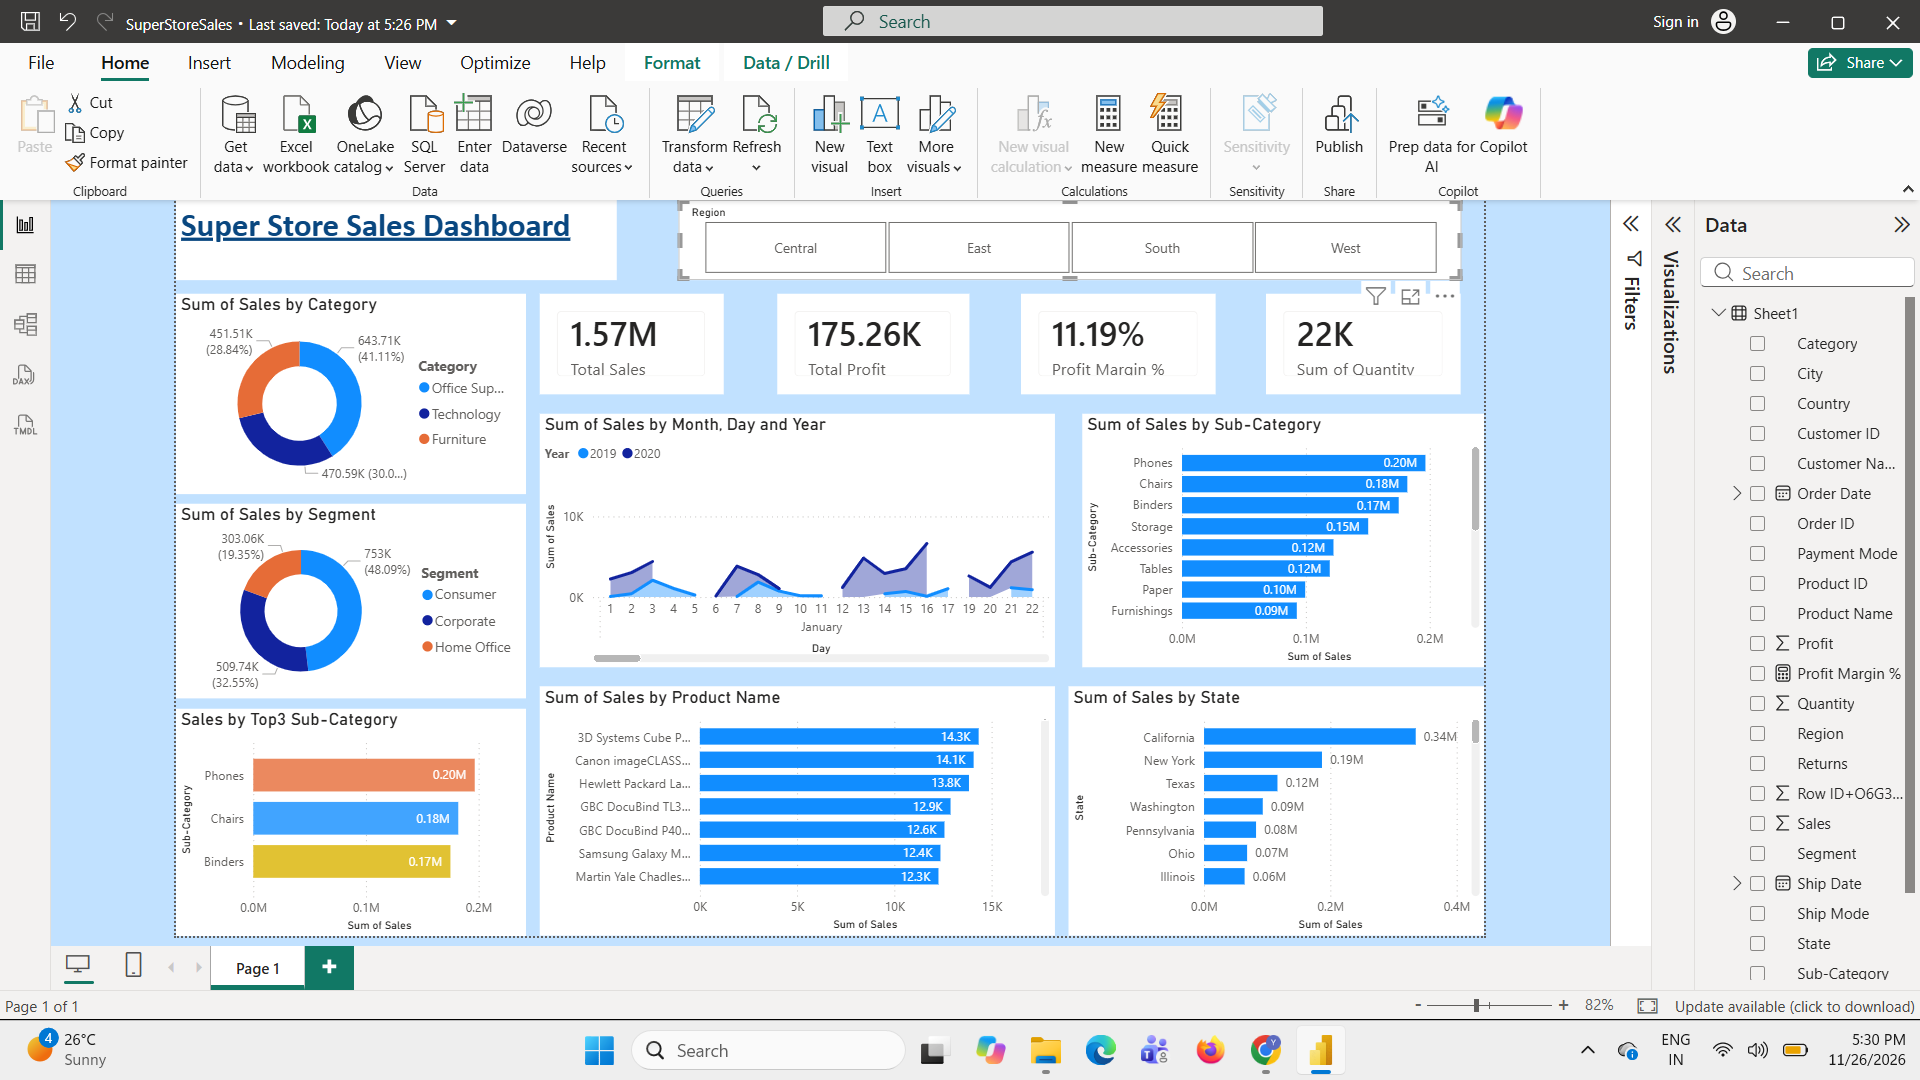

Layout of this report page (visuals, bound fields, positions):
{"tool":"powerbi","page":{"name":"Page 1","canvas":[1280,720],"ordinal":0},"visuals":[{"type":"barChart","fields":{"Y":["Sum(SuperStore_Sales_Dataset.Sales)"],"Category":["SuperStore_Sales_Dataset.Sub-Category"]},"box":[886.5,208.6,393.8,248.4],"z":0},{"type":"barChart","title":"Sales by Top3 Sub-Category","fields":{"Y":["Sum(SuperStore_Sales_Dataset.Sales)"],"Category":["SuperStore_Sales_Dataset.Sub-Category"]},"box":[0,497.5,342,223.1],"z":1000},{"type":"stackedAreaChart","fields":{"Y":["Sum(SuperStore_Sales_Dataset.Sales)"],"Series":["SuperStore_Sales_Dataset.Order Date.Variation.Date Hierarchy.Year"],"Category":["SuperStore_Sales_Dataset.Order Date.Variation.Date Hierarchy.Month","SuperStore_Sales_Dataset.Order Date.Variation.Date Hierarchy.Day"]},"box":[355.4,208.6,503.6,248.4],"z":2000},{"type":"donutChart","fields":{"Category":["SuperStore_Sales_Dataset.Segment"],"Y":["Sum(SuperStore_Sales_Dataset.Sales)"]},"box":[0,297.4,342,190.6],"z":3000},{"type":"slicer","fields":{"Values":["SuperStore_Sales_Dataset.Region"]},"box":[503.6,0,765.7,78.2],"z":4000},{"type":"textbox","box":[0,0,430.9,78.2],"z":5000},{"type":"barChart","fields":{"Y":["Sum(SuperStore_Sales_Dataset.Sales)"],"Category":["SuperStore_Sales_Dataset.State"]},"box":[872.7,476.2,407.5,244.3],"z":6000},{"type":"donutChart","fields":{"Y":["Sum(SuperStore_Sales_Dataset.Sales)"],"Category":["SuperStore_Sales_Dataset.Category"]},"box":[0,91.9,342,196],"z":7000},{"type":"barChart","fields":{"Y":["Sum(SuperStore_Sales_Dataset.Sales)"],"Category":["SuperStore_Sales_Dataset.Product Name"]},"box":[355.4,476.2,503.6,244.3],"z":8000},{"type":"cardVisual","fields":{"Data":["Sheet1.Total Sales"]},"box":[355.6,91.9,179.8,98.7],"z":9000},{"type":"cardVisual","fields":{"Data":["Sheet1.Total Profit"]},"box":[588.1,91.9,187.9,98.7],"z":10000},{"type":"cardVisual","fields":{"Data":["Sheet1.Profit Margin %"]},"box":[826,91.9,190.6,98.7],"z":11000},{"type":"cardVisual","fields":{"Data":["Sum(Sheet1.Quantity)"]},"box":[1066.7,91.9,190.6,98.7],"z":11001}]}

Visuals, with their boxes on the page's 1280x720 design canvas (x1, y1, x2, y2). These are canvas units, not pixel positions in the 1920x1080 screenshot, which may show the page scaled, cropped or inside an application window:
barChart - Sum(SuperStore_Sales_Dataset.Sales) x SuperStore_Sales_Dataset.Sub-Category: x1=886 y1=209 x2=1280 y2=457
"Sales by Top3 Sub-Category" barChart: x1=0 y1=498 x2=342 y2=721
stackedAreaChart - Sum(SuperStore_Sales_Dataset.Sales) x SuperStore_Sales_Dataset.Order Date.Variation.Date Hierarchy.Year: x1=355 y1=209 x2=859 y2=457
donutChart - SuperStore_Sales_Dataset.Segment x Sum(SuperStore_Sales_Dataset.Sales): x1=0 y1=297 x2=342 y2=488
slicer - SuperStore_Sales_Dataset.Region: x1=504 y1=0 x2=1269 y2=78
textbox: x1=0 y1=0 x2=431 y2=78
barChart - Sum(SuperStore_Sales_Dataset.Sales) x SuperStore_Sales_Dataset.State: x1=873 y1=476 x2=1280 y2=720
donutChart - Sum(SuperStore_Sales_Dataset.Sales) x SuperStore_Sales_Dataset.Category: x1=0 y1=92 x2=342 y2=288
barChart - Sum(SuperStore_Sales_Dataset.Sales) x SuperStore_Sales_Dataset.Product Name: x1=355 y1=476 x2=859 y2=720
cardVisual - Sheet1.Total Sales: x1=356 y1=92 x2=535 y2=191
cardVisual - Sheet1.Total Profit: x1=588 y1=92 x2=776 y2=191
cardVisual - Sheet1.Profit Margin %: x1=826 y1=92 x2=1017 y2=191
cardVisual - Sum(Sheet1.Quantity): x1=1067 y1=92 x2=1257 y2=191
